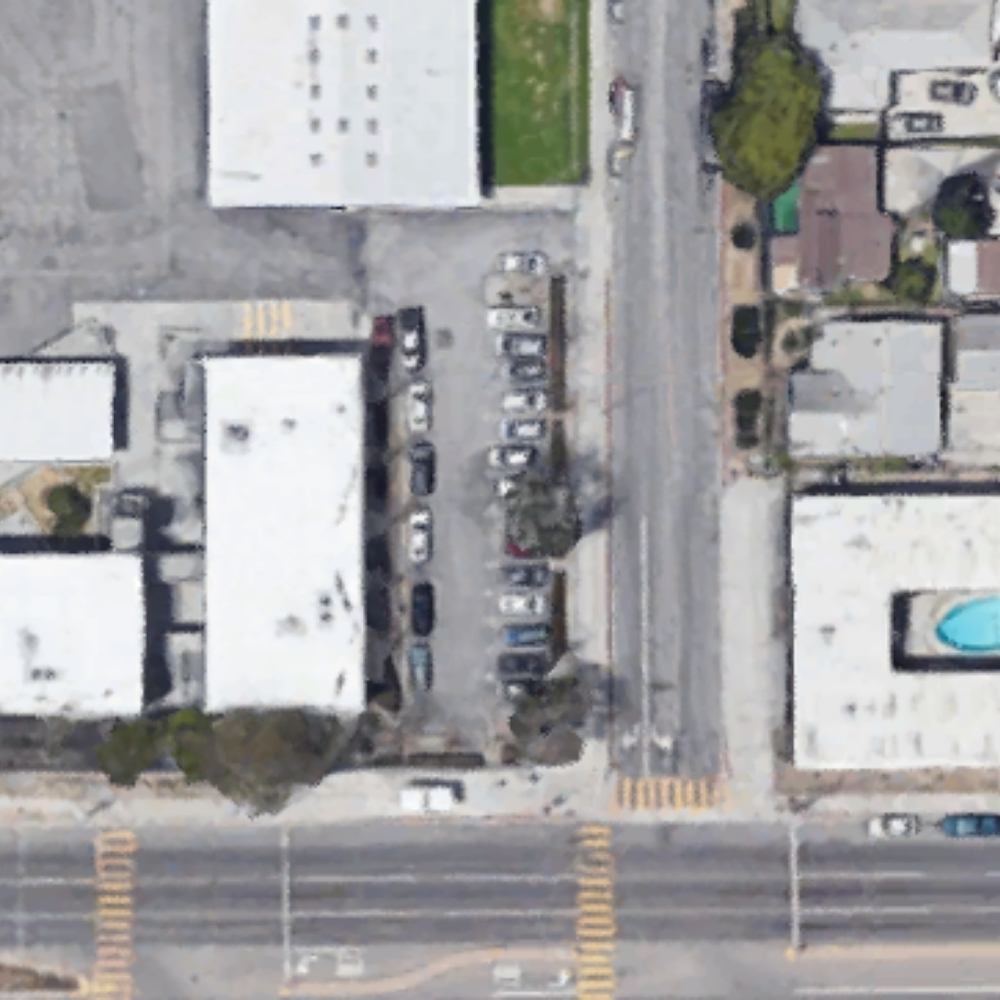parking: (370, 215, 580, 765)
